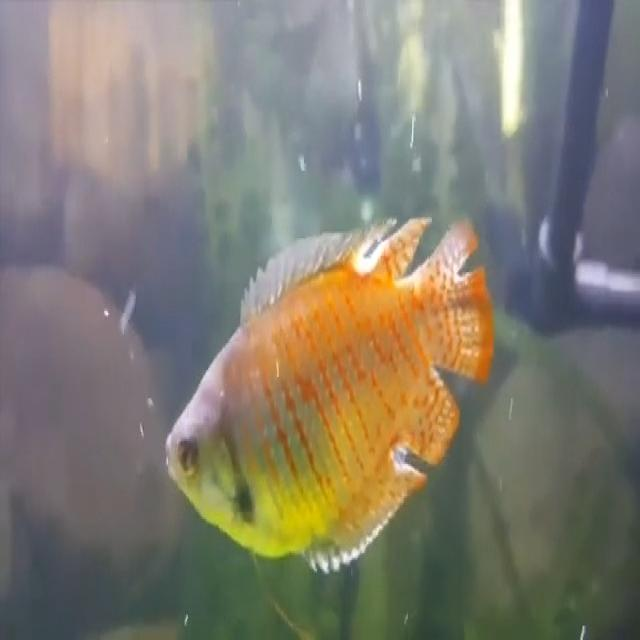fish: (162, 205, 496, 578)
